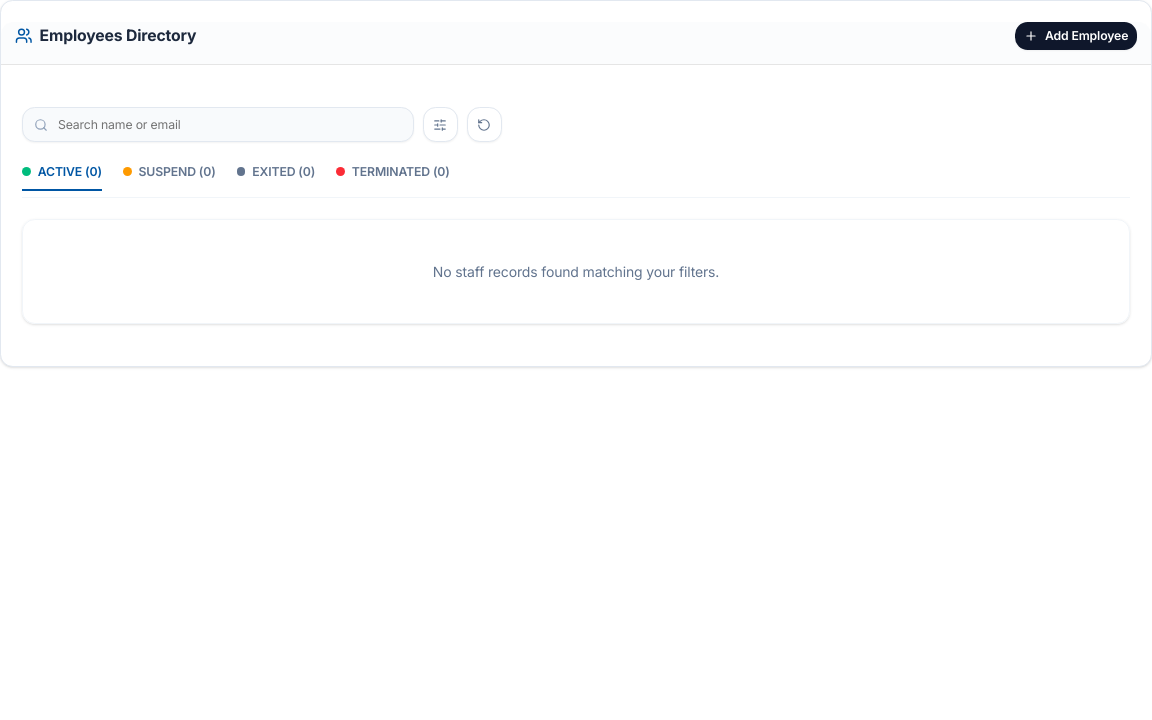
Test: HRStaffSubtab › opens the add dialog titled 'Add New Employee' with a blank form
Click the button "Add Employee". click: [1076, 36]
box: [1015, 22, 1137, 50]
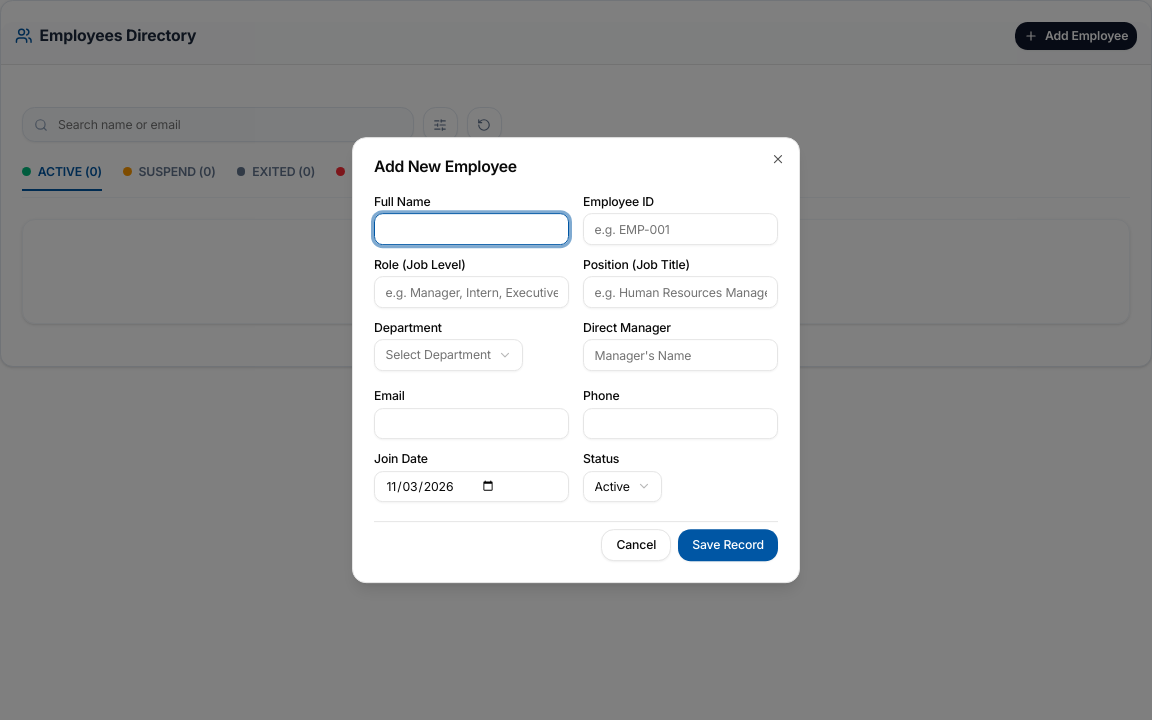
Result: the heading "Add New Employee" is shown at [374, 157, 517, 176]
